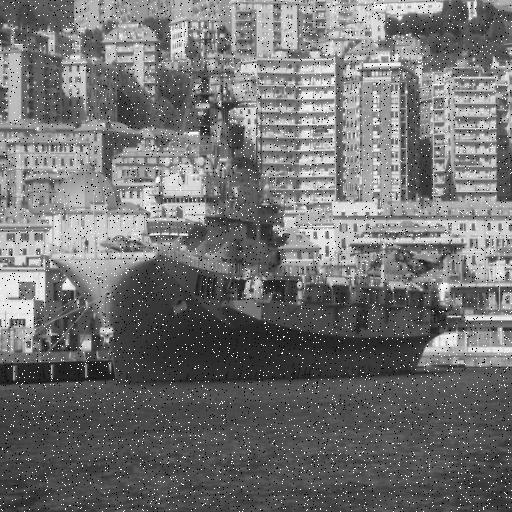Portanaves: (48, 67, 453, 393)
